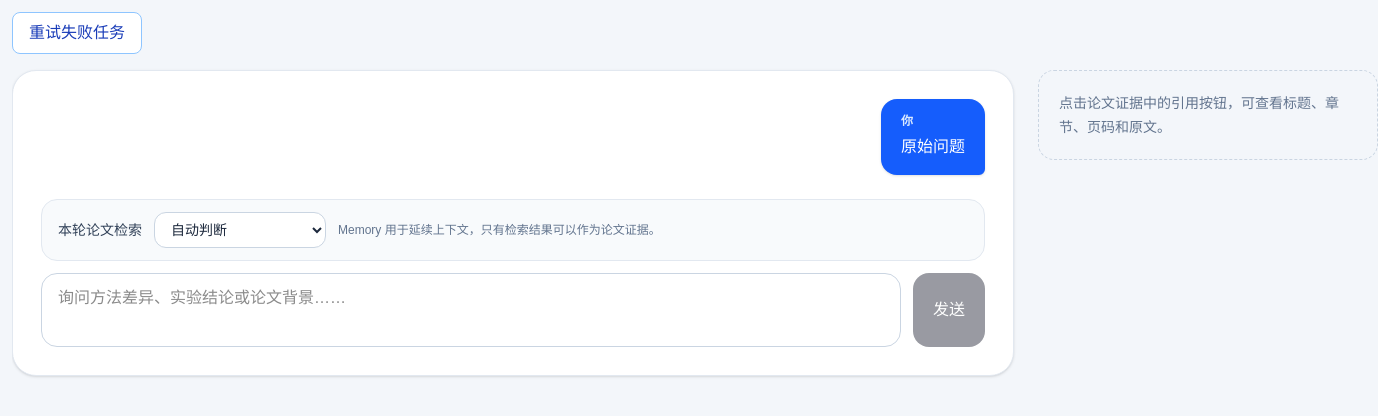
retries a failed run through the retry endpoint without creating a new user message
What coordinates should you click on to do the following:
click the button "重试失败任务"
I would click on:
 (77, 33)
Its box is [12,12,142,54].
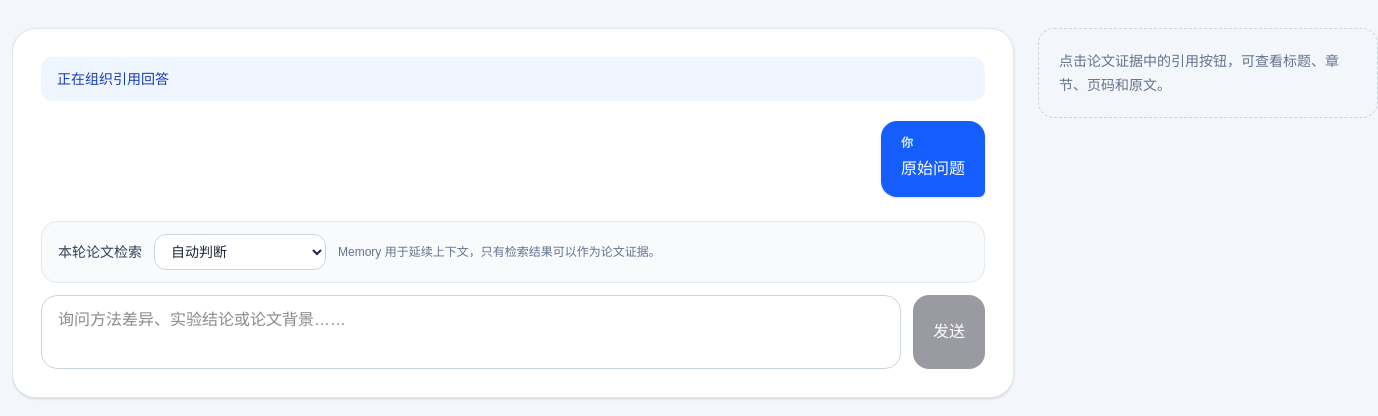
Expected: the text "原始问题" is shown once, [901,155,965,183]
Result: the button "重试失败任务" is gone
